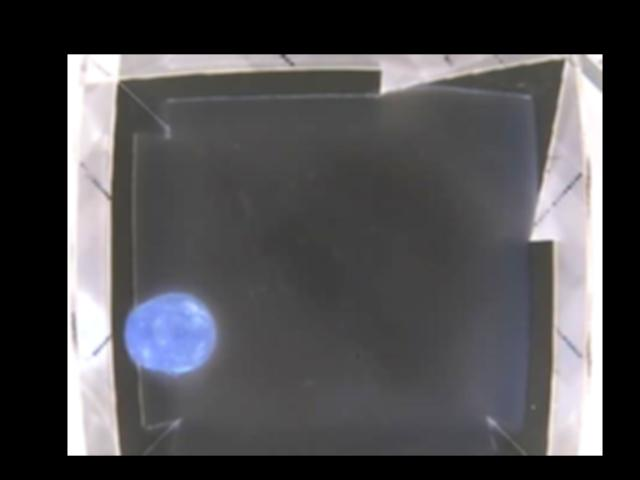Potato: (124, 291, 214, 375)
